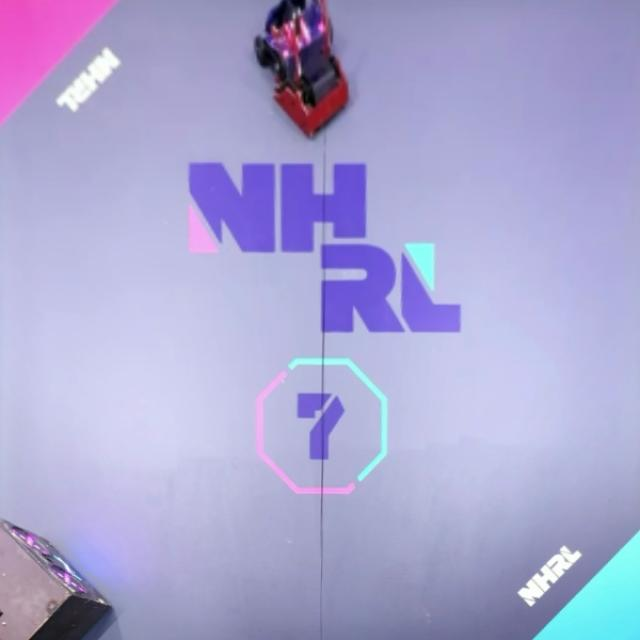housebot: (0, 516, 116, 640)
robot: (270, 3, 350, 138), (254, 0, 334, 76)
